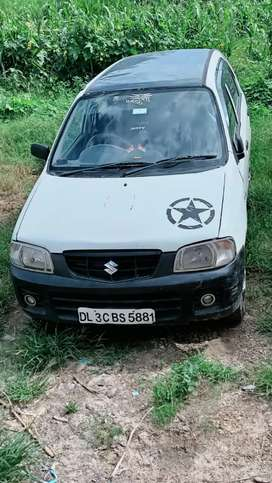DL3CBS5881: (78, 306, 155, 324)
